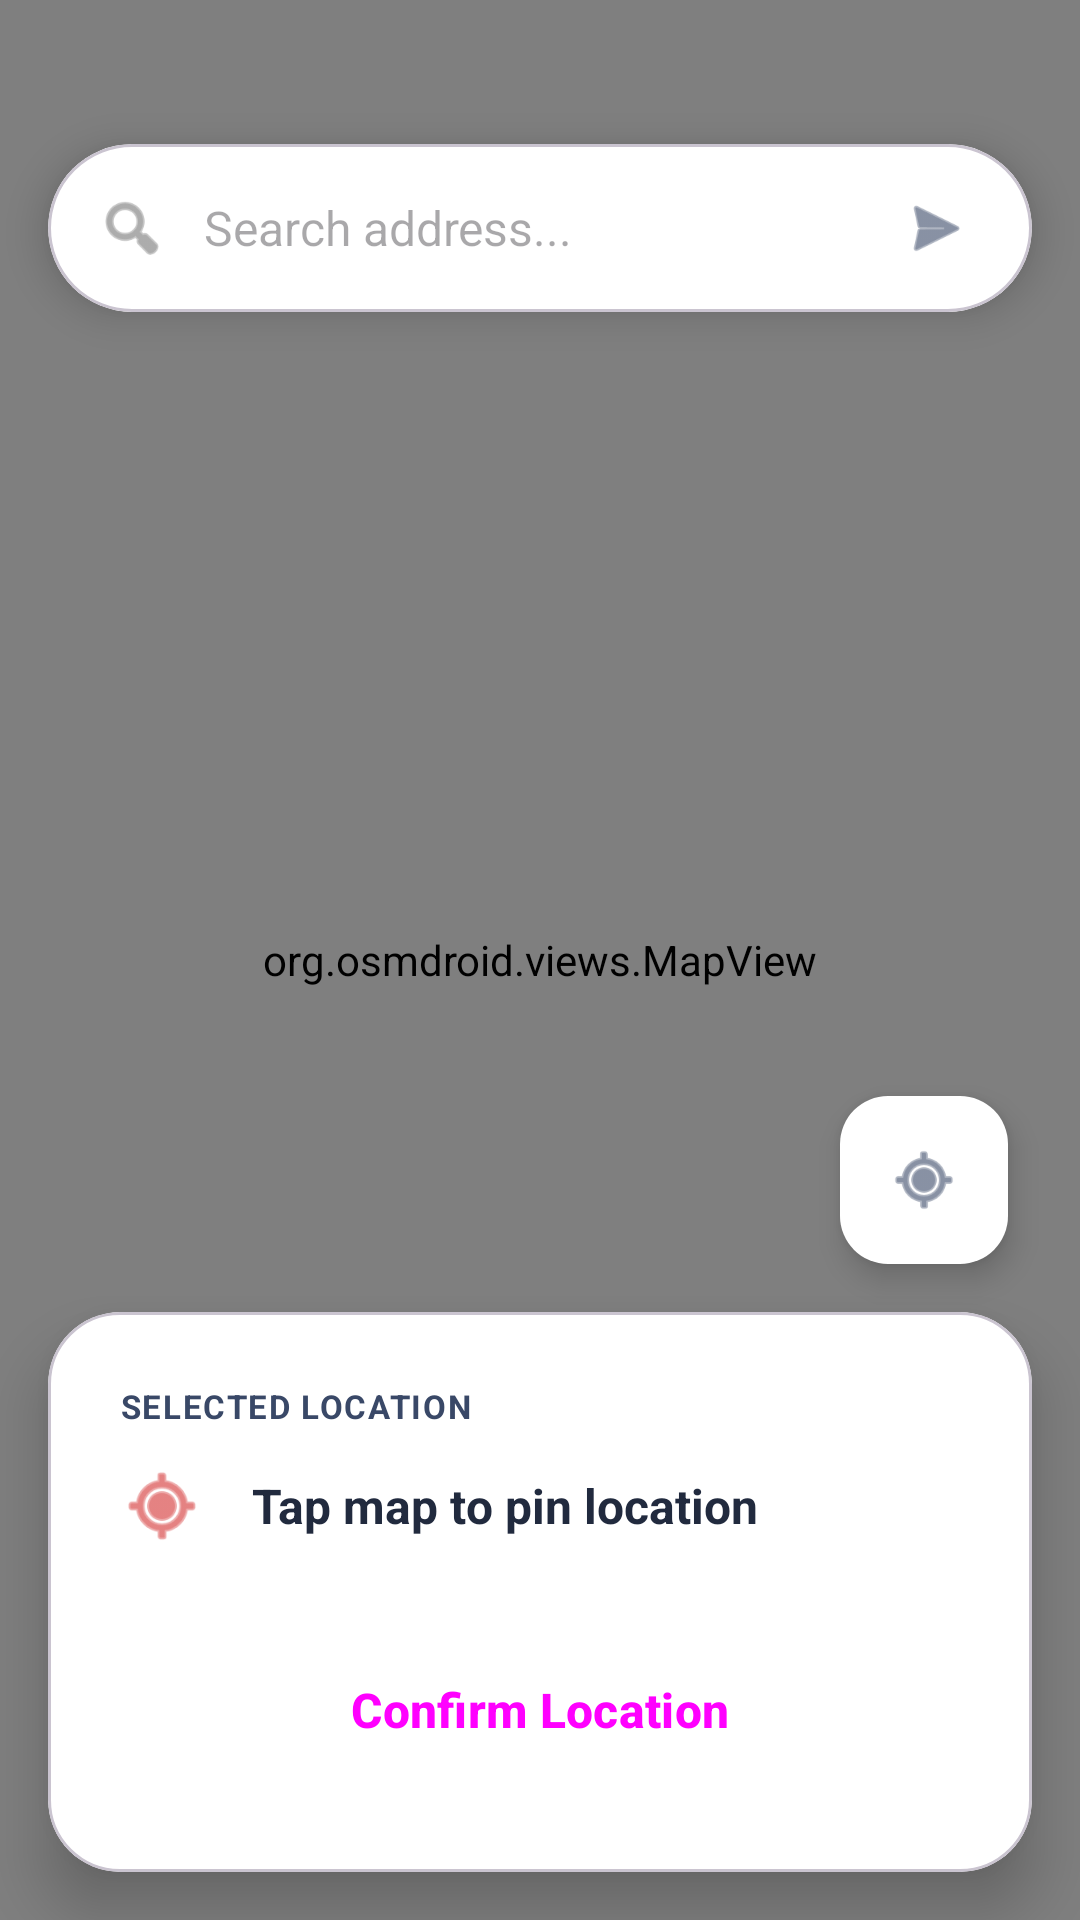

Named icons in this screenshot (1080×1920) and their bounding boxes, (x1, y1, x2, y2):
mylocation: (840, 1096, 1008, 1264), (128, 1472, 196, 1540)
send: (914, 206, 960, 251)
